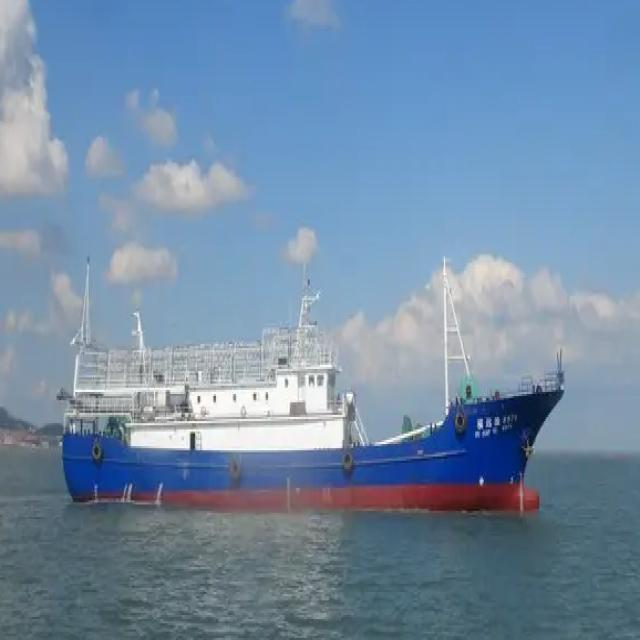cargoship: (66, 241, 568, 510)
